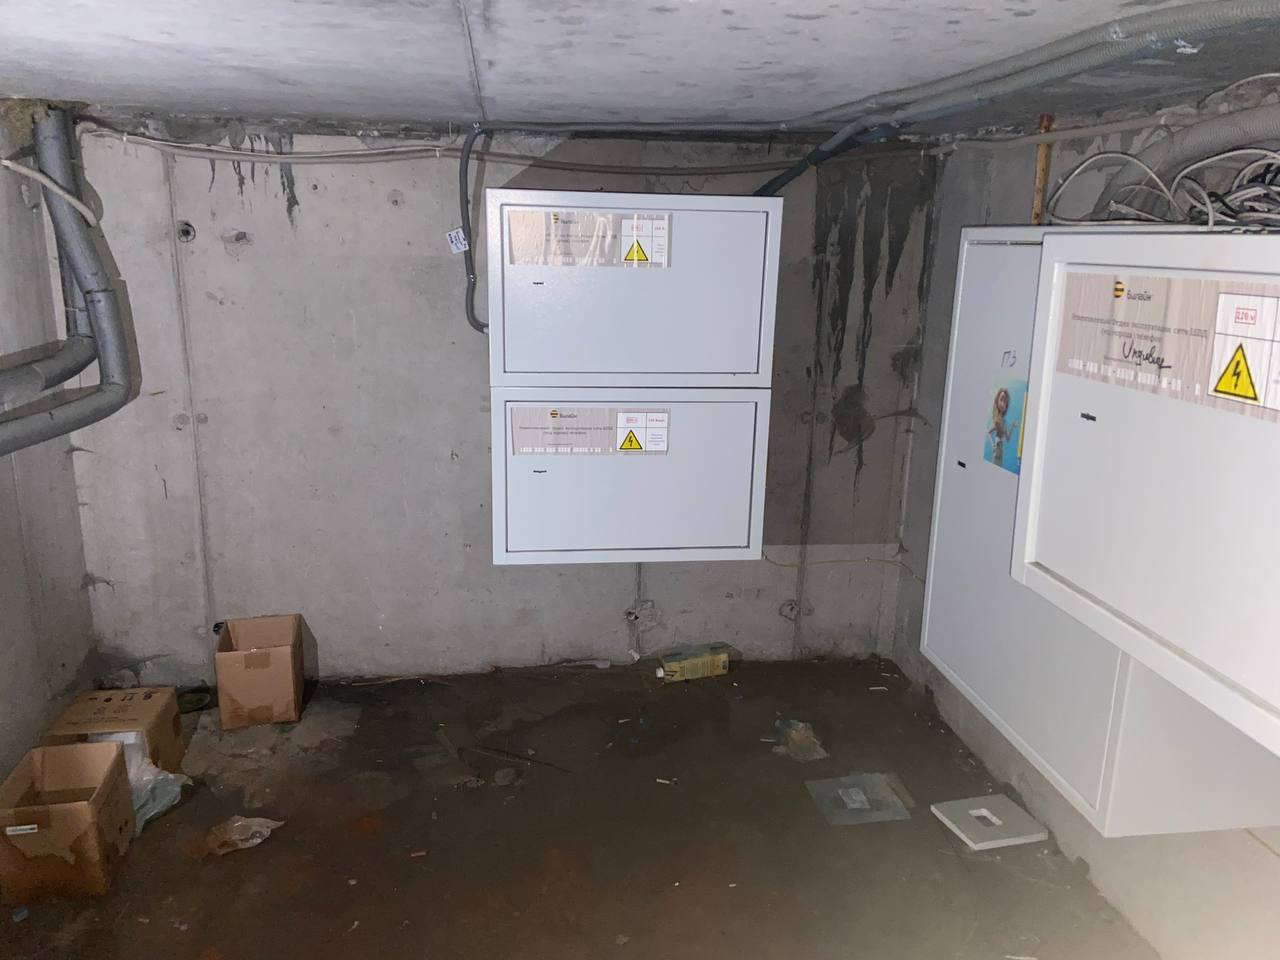shta-7m: (1004, 226, 1278, 762), (483, 182, 788, 389), (485, 387, 774, 564)
